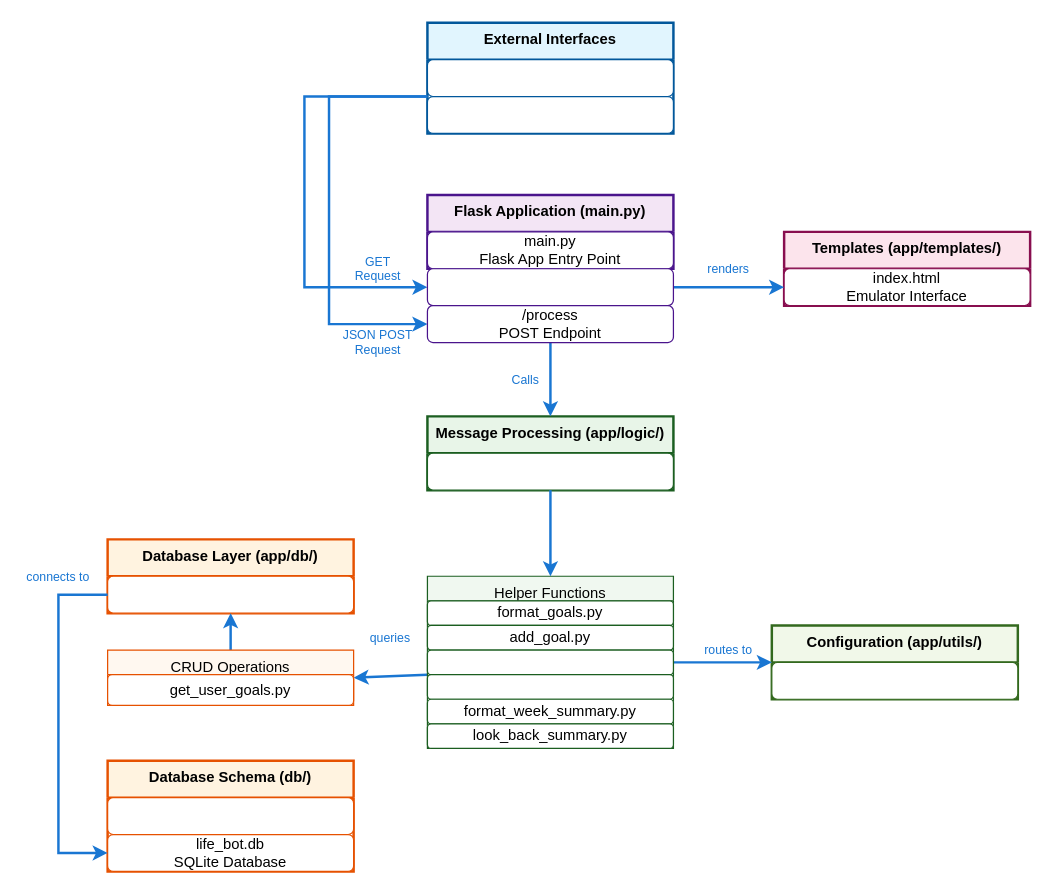
This 1052x893 diagram has some shape labels left out. The centre of each missing label's shape, as x and y in pixels:
"/emulator GET Endpoint" belongs at [549,287].
"config.py Goals & Styles Config" belongs at [894,680].
"handle_goal_ratings.py" belongs at [549,662].
"process_message.py Message Router" belongs at [549,471].
"rate_individual_goal.py" belongs at [549,686].
"schema.sql Table Definitions" belongs at [230,815].
"sqlite.py DB Connection Manager" belongs at [230,594].
"Web Browser Emulator UI" belongs at [549,114].
"WhatsApp/Telegram Messaging Platform" belongs at [549,77].
